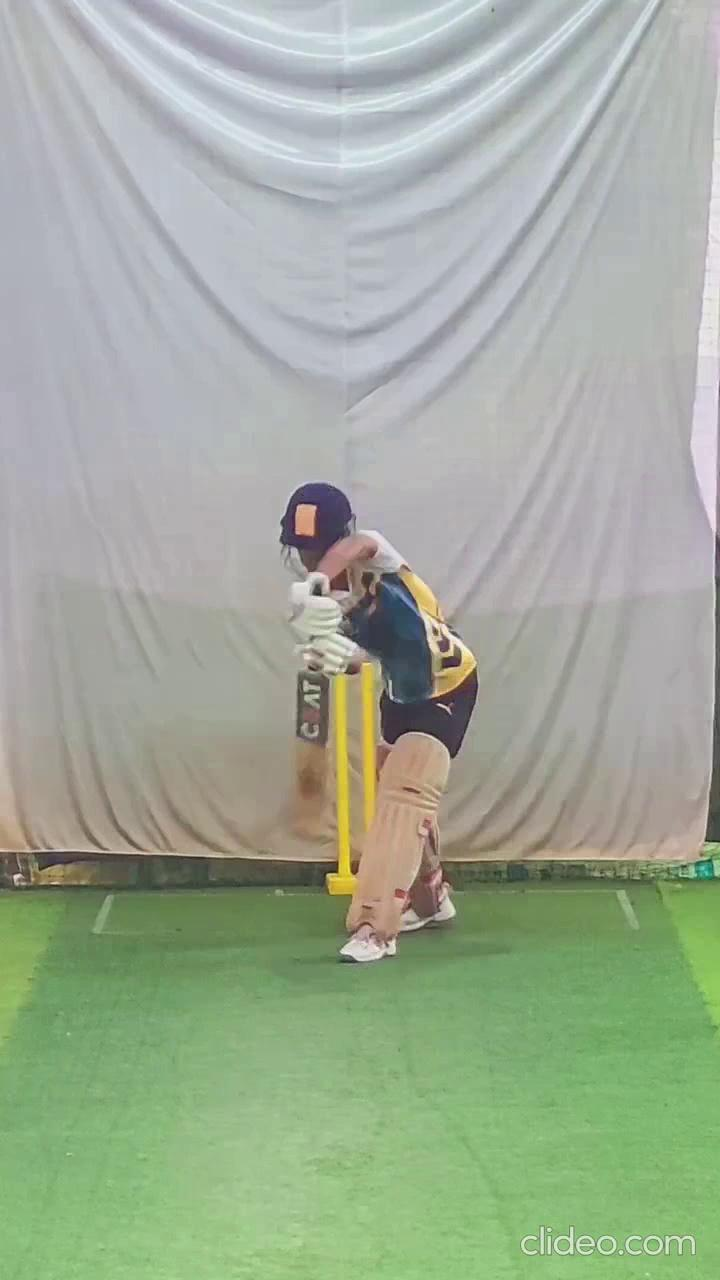bat: (293, 669, 334, 842)
